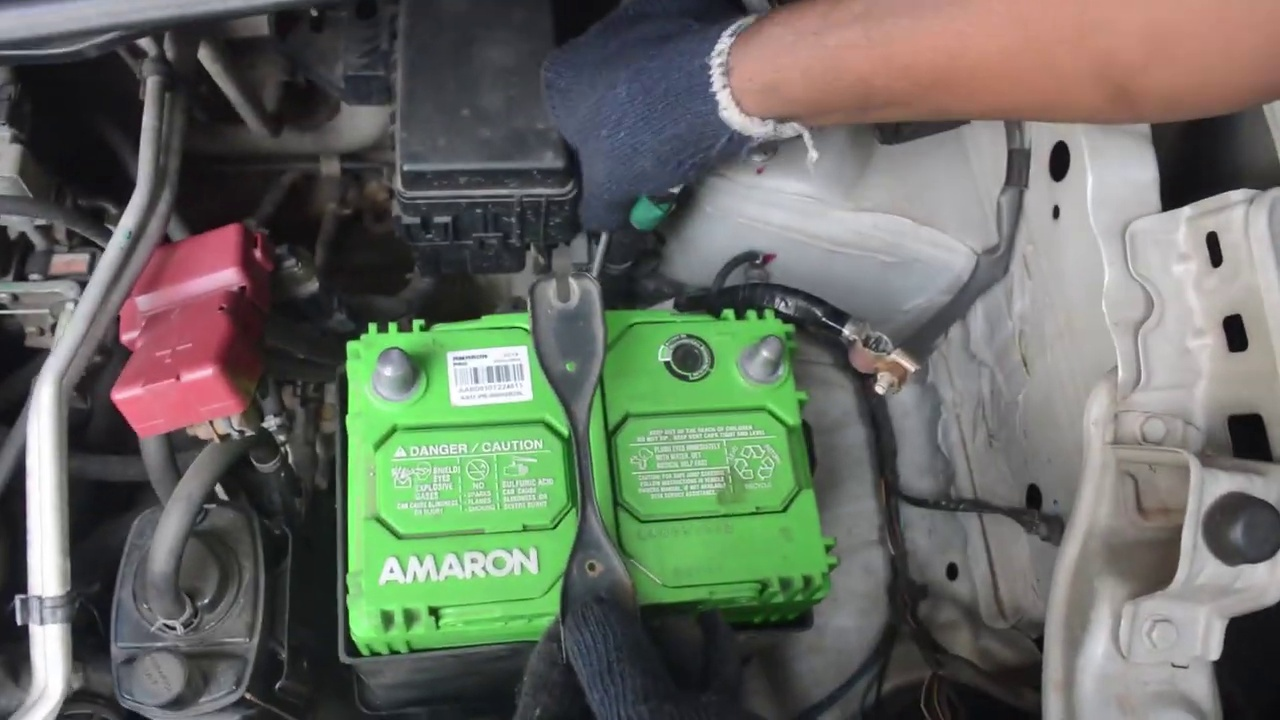battery: (349, 317, 843, 614)
neg_disconnected: (697, 296, 821, 399)
pos_disconnected: (114, 223, 434, 437)
